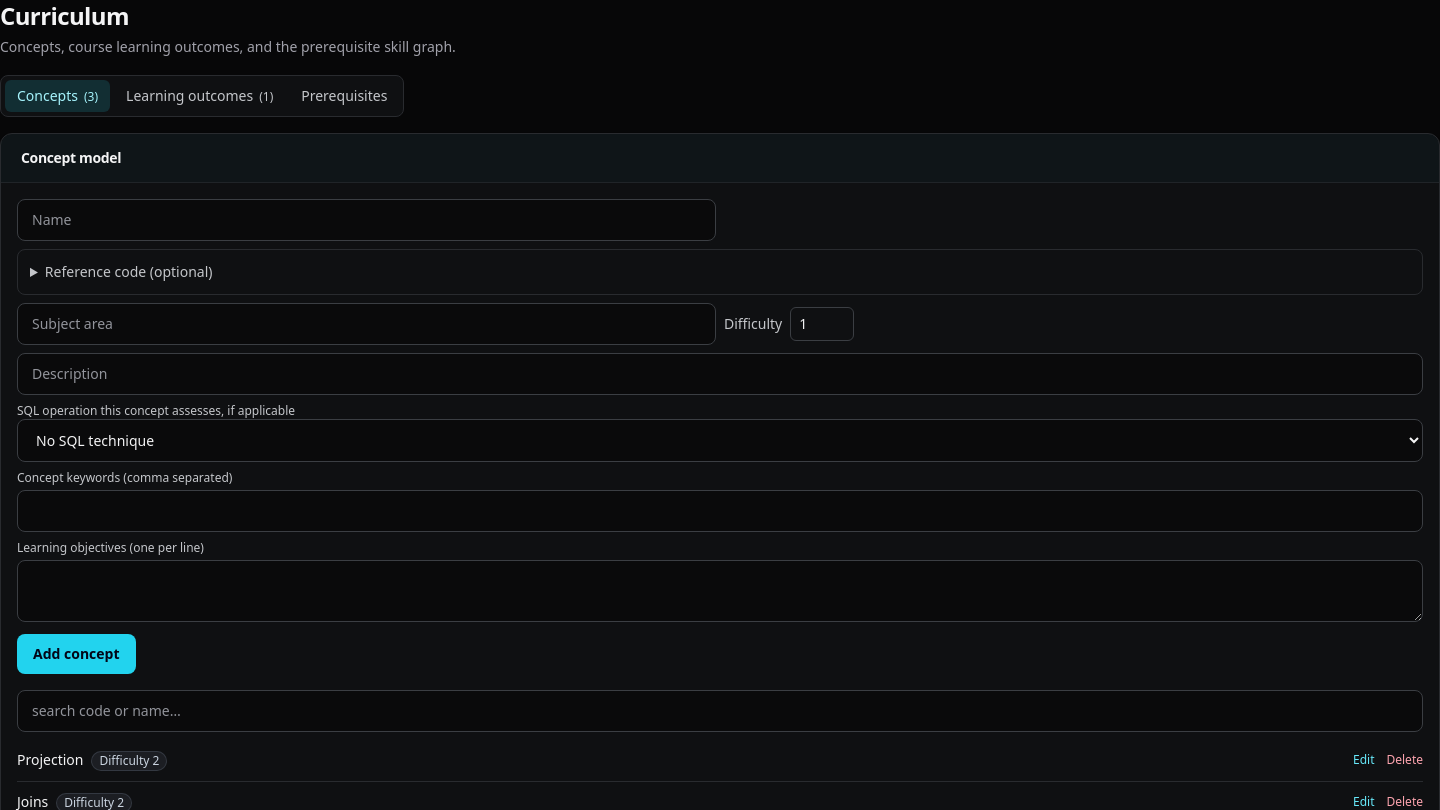
it: surfaces a cycle rejection without losing named selections
Click the button "Prerequisites": coordinates (344, 96) x1=289 y1=80 x2=399 y2=112
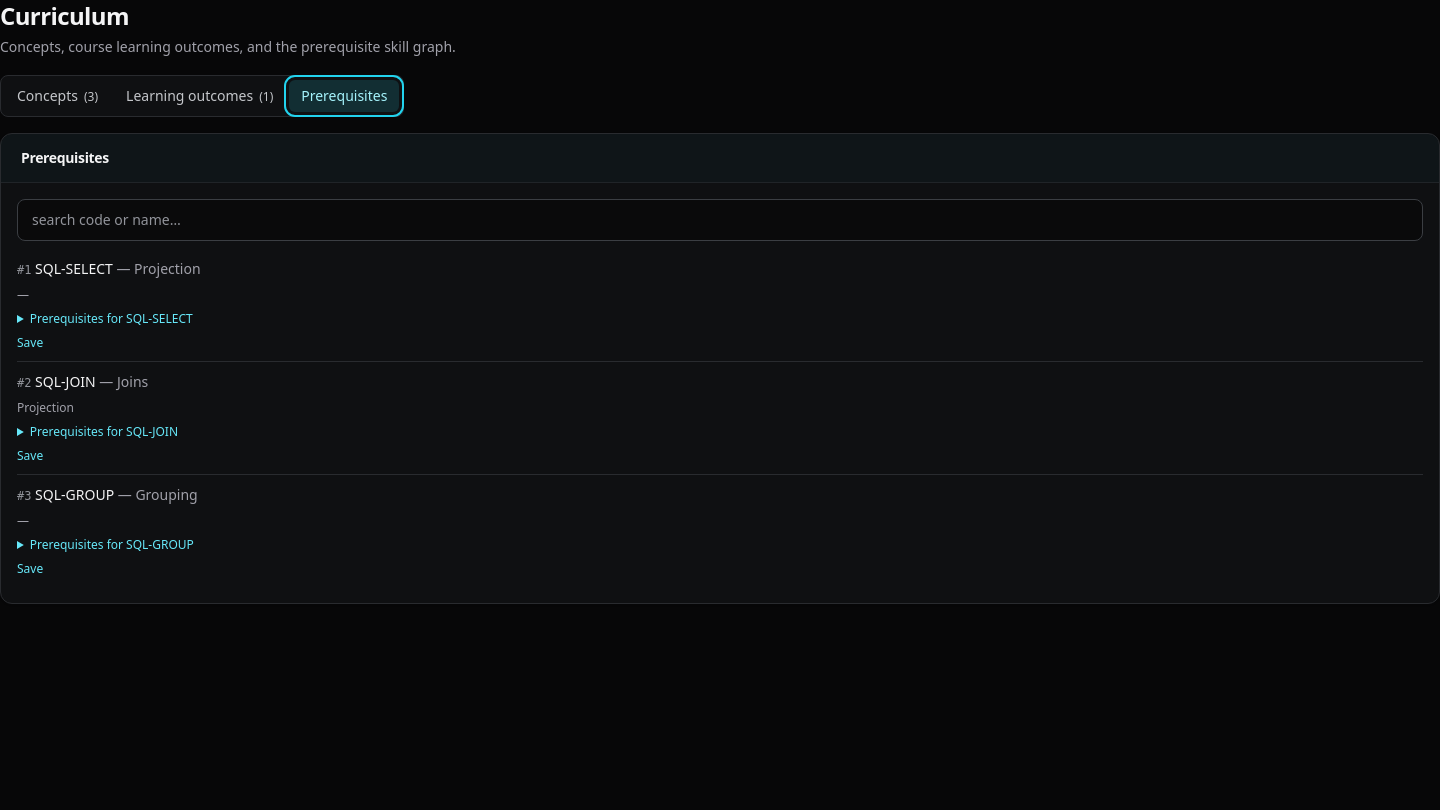
Click the heading "Prerequisites for SQL-JOIN": coordinates (104, 431) x1=30 y1=423 x2=178 y2=440
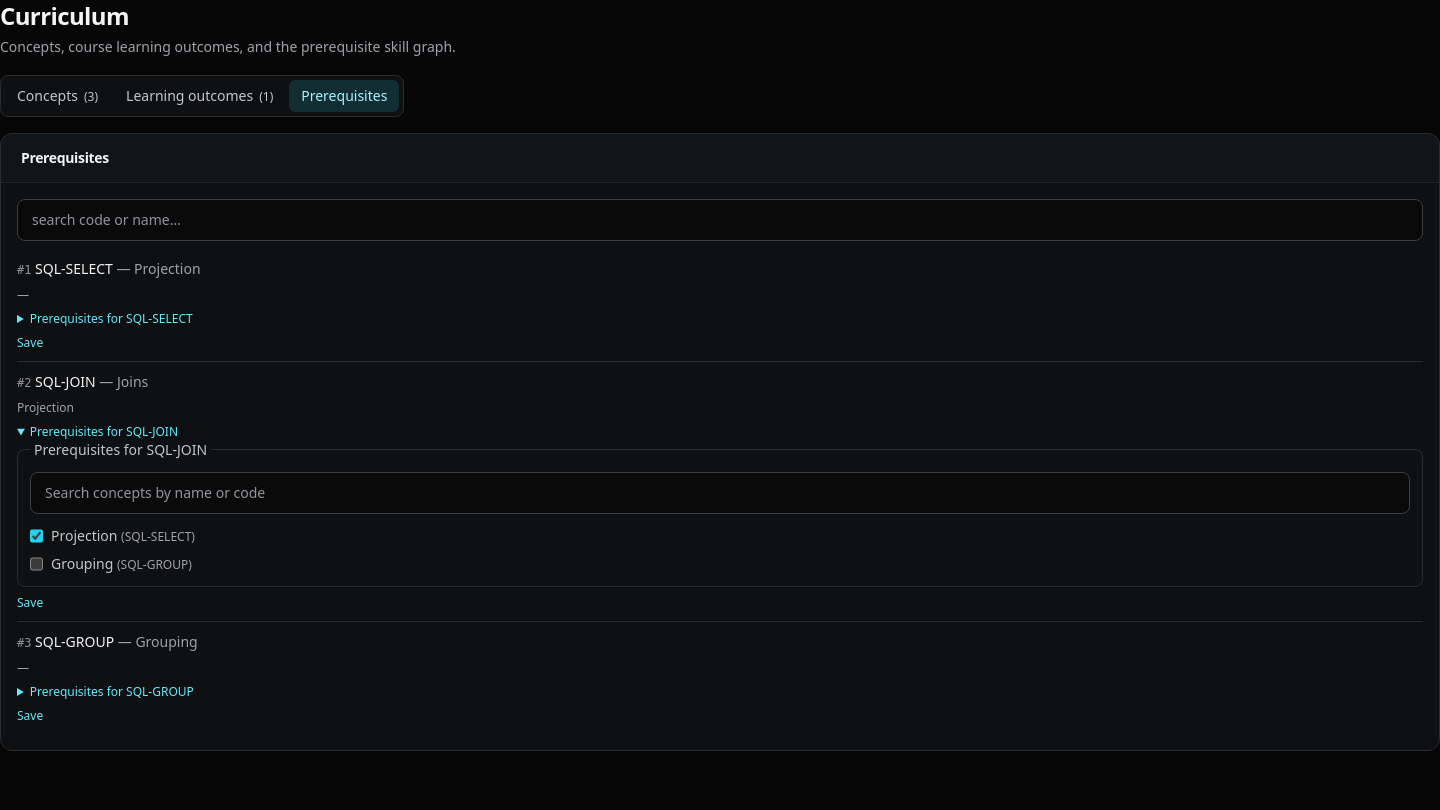
Click the checkbox labelled "Grouping (SQL-GROUP)": coordinates (36, 564) x1=30 y1=554 x2=43 y2=574
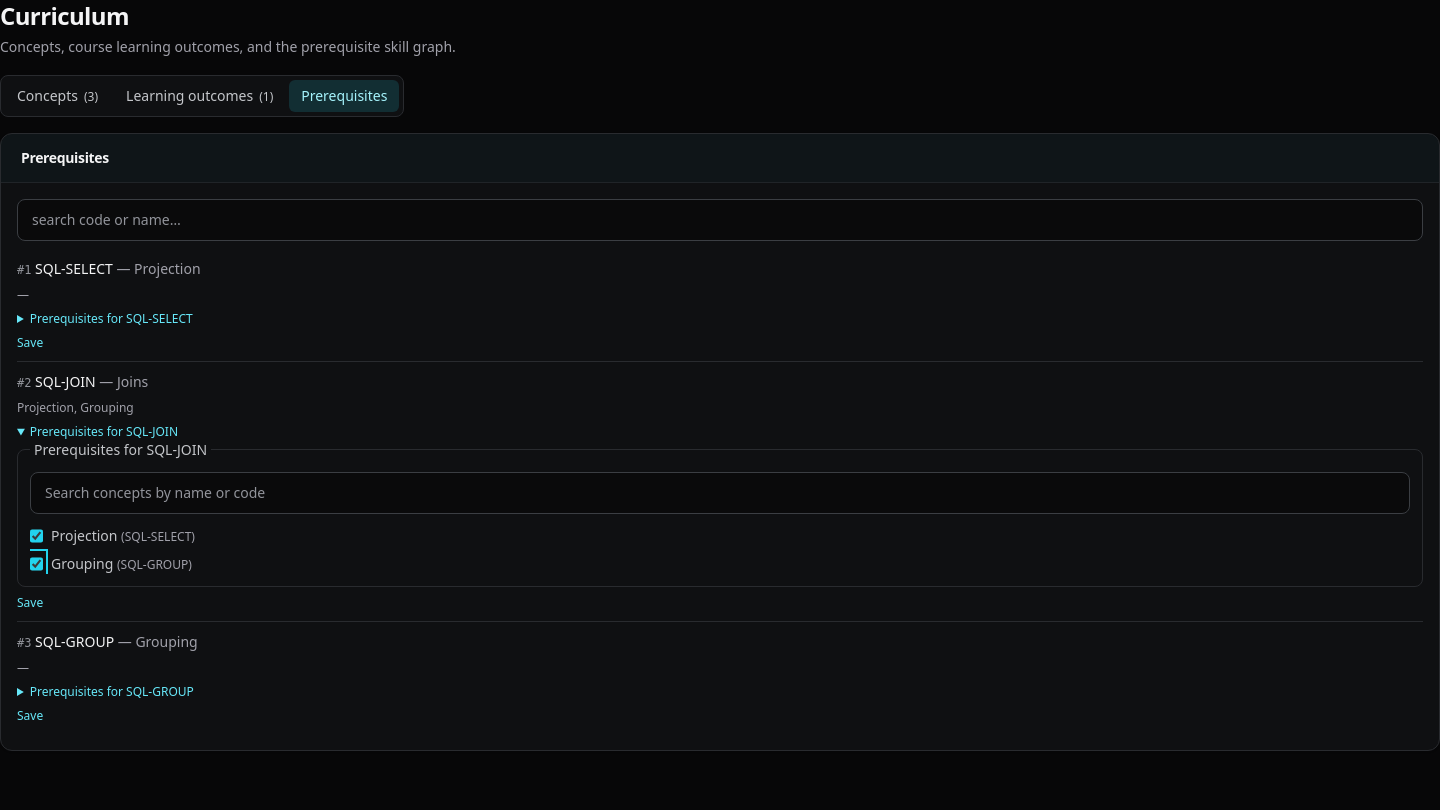
Click the button "Save" below "Projection, Grouping": coordinates (30, 603) x1=17 y1=595 x2=43 y2=611
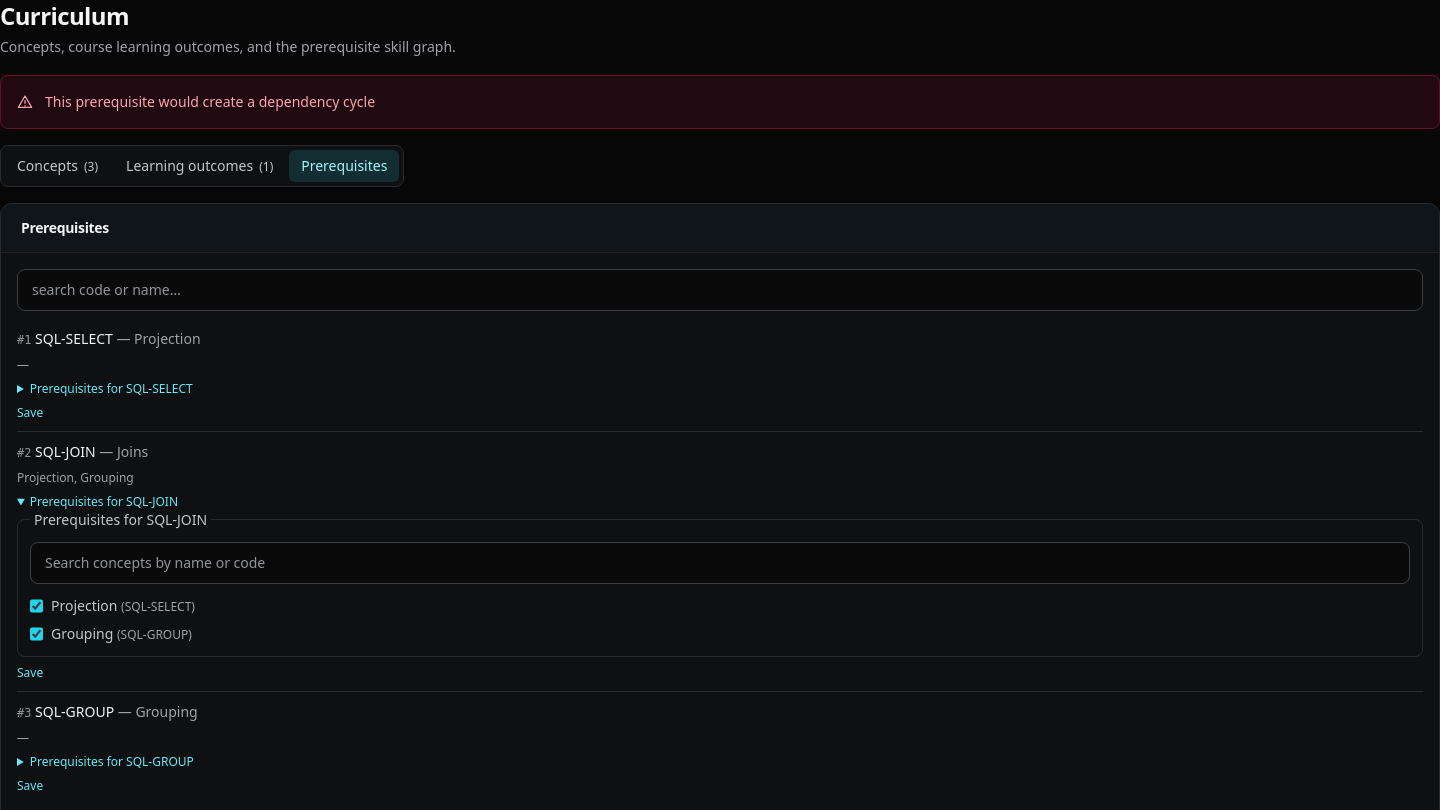
expect the checkbox labelled "Grouping (SQL-GROUP)" is checked: met, box x1=30 y1=624 x2=43 y2=644
expect the message shows "dependency cycle": met, box x1=45 y1=92 x2=375 y2=111
